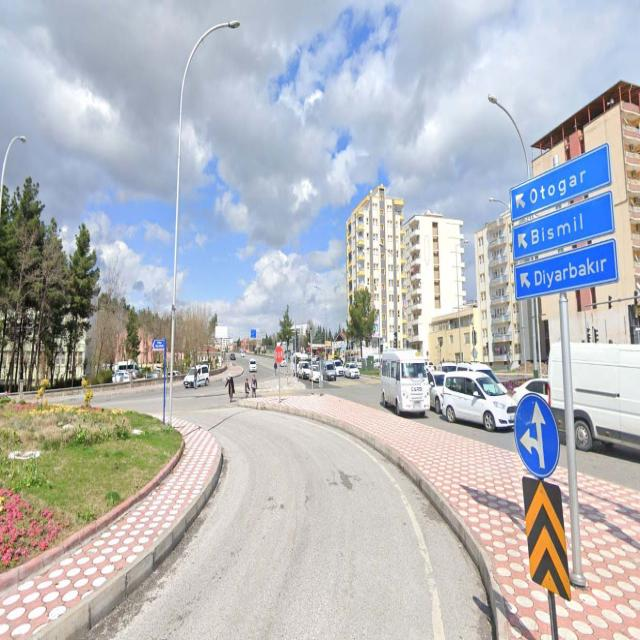dur: (275, 346, 283, 363)
ilerisol: (514, 394, 559, 472)
